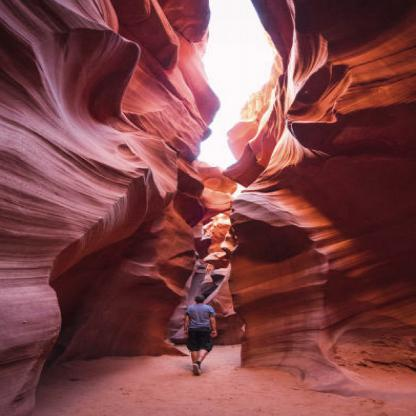Sedimentary_Sandstone: (269, 0, 415, 155), (225, 187, 341, 378), (0, 0, 144, 149), (0, 228, 114, 415), (0, 164, 149, 215)
